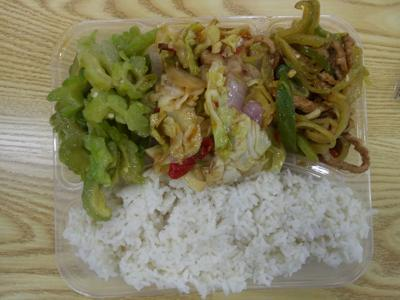rice: (58, 176, 370, 283)
